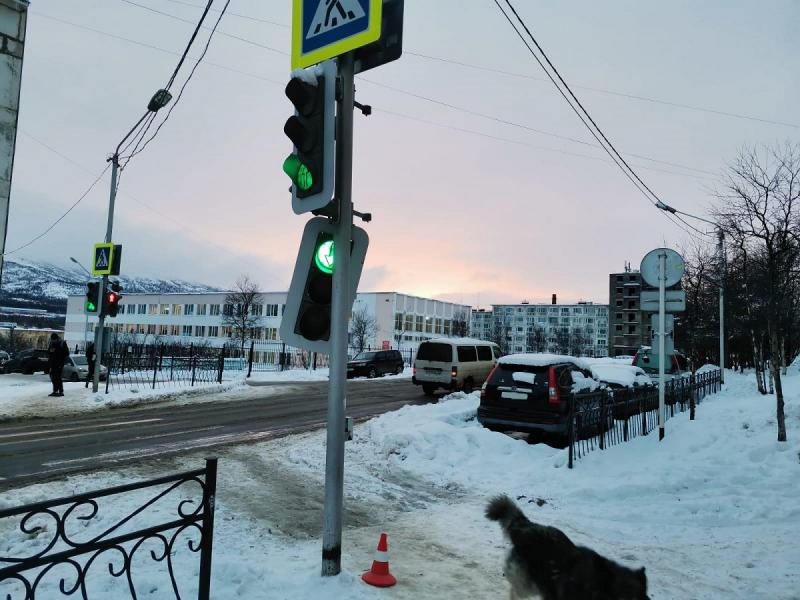obstructed_road_sign: (290, 0, 382, 70)
road_sign: (92, 244, 112, 274)
traffic light: (283, 73, 324, 198), (292, 230, 334, 347), (85, 283, 99, 312), (106, 292, 117, 315)
